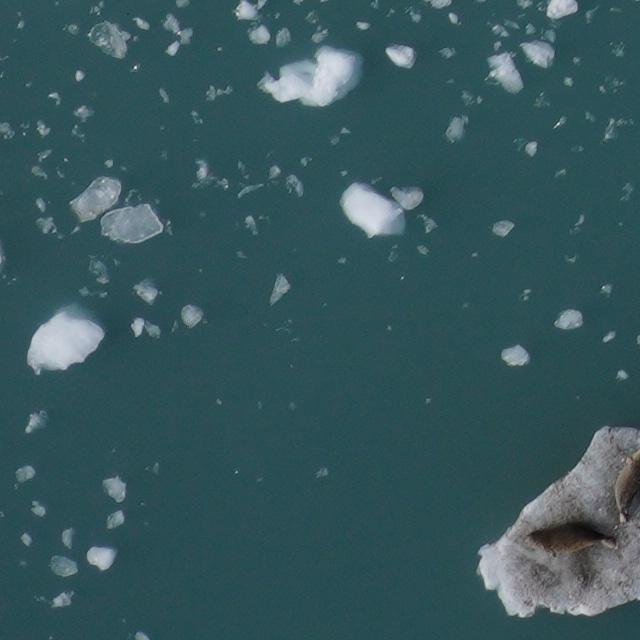seal: (520, 524, 615, 553), (615, 447, 639, 523)
